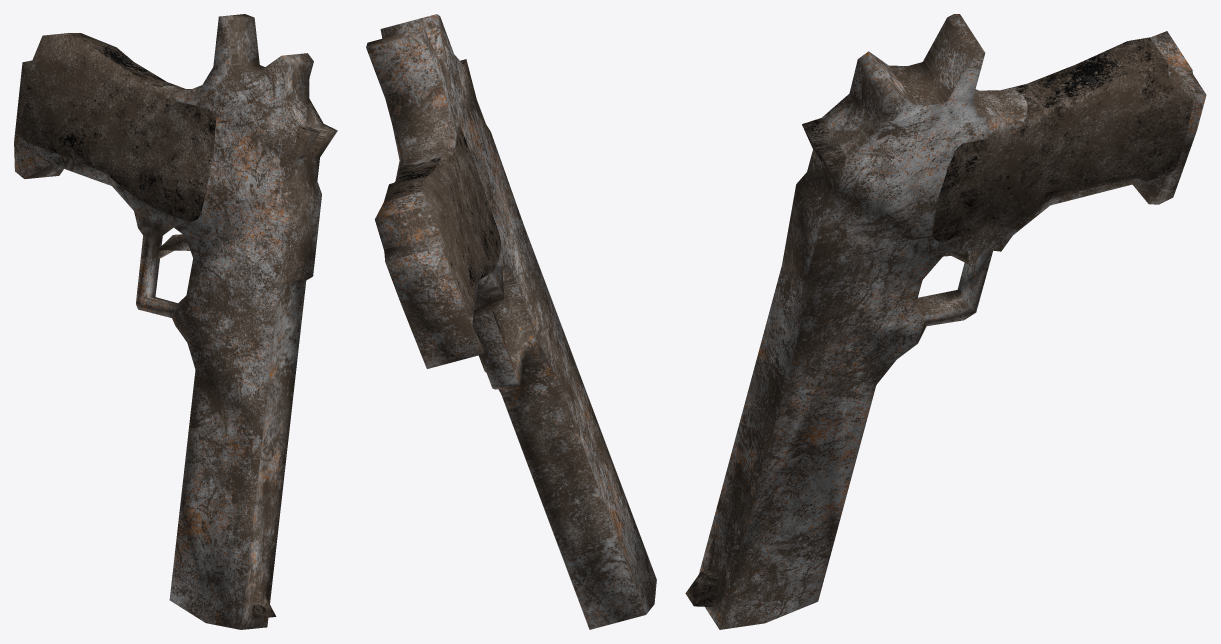
Rendered from Anim_disparar_pistola_objetos.0036.obj.
3 views of the same model, side by side, from view 1: azimuth 30°, elevation 25°; view 2: azimuth 150°, elevation 25°; view 3: azimuth 270°, elevation 25° (orthographic). The views are drawn at different scales.
Parts seen in each view (by area): view 1: Pistola1; view 2: Pistola1; view 3: Pistola1.
Boxes of the visible parts, x1,y1,x2,y2 form: Pistola1: [14, 14, 337, 629]; Pistola1: [366, 14, 656, 629]; Pistola1: [685, 14, 1206, 629].
Bounding box in the file's own units: 0.6245 × 1.65 × 1.2.
Materials: 1 (1 with a texture image).
